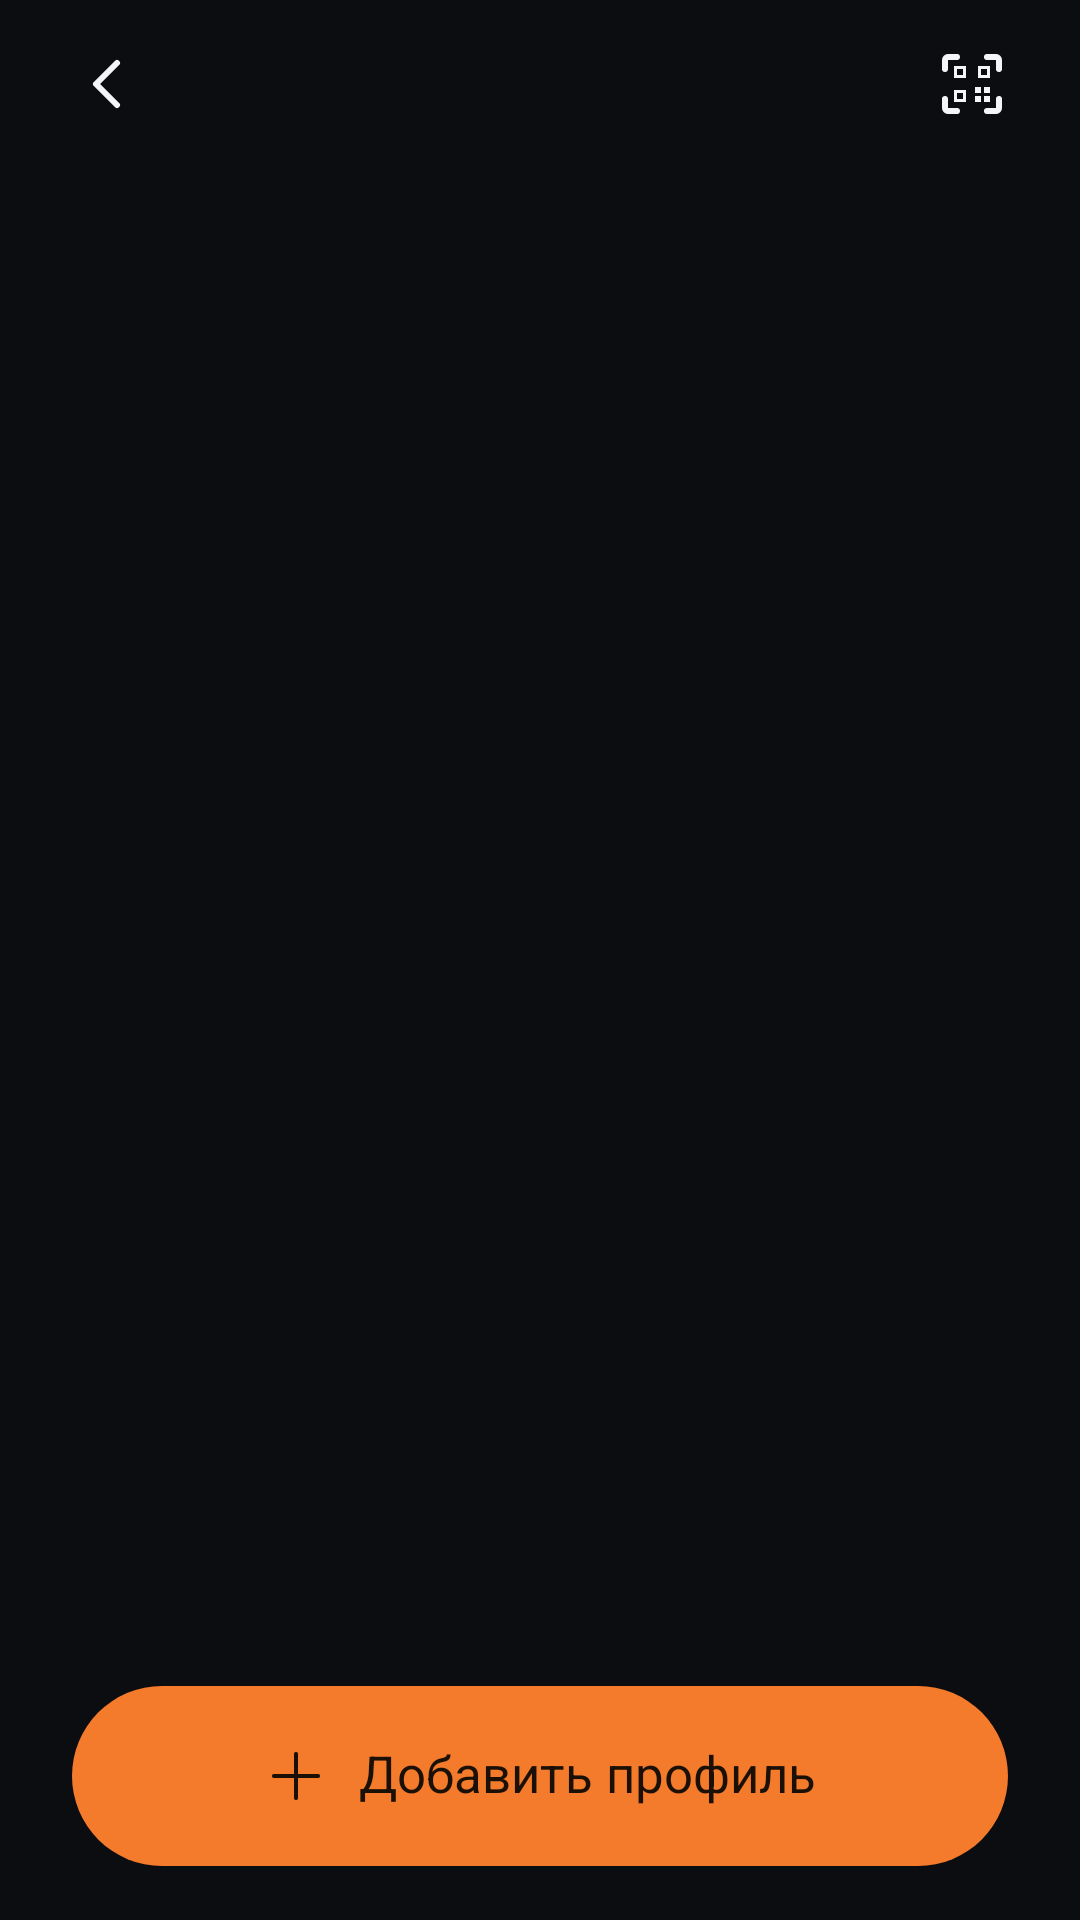

Icons on this 1080w x 1920h Android screen, each with its box as region(x1, y1, x2, y2):
add: region(272, 1752, 320, 1800)
Сканировать QR-код: region(942, 54, 1002, 114)
